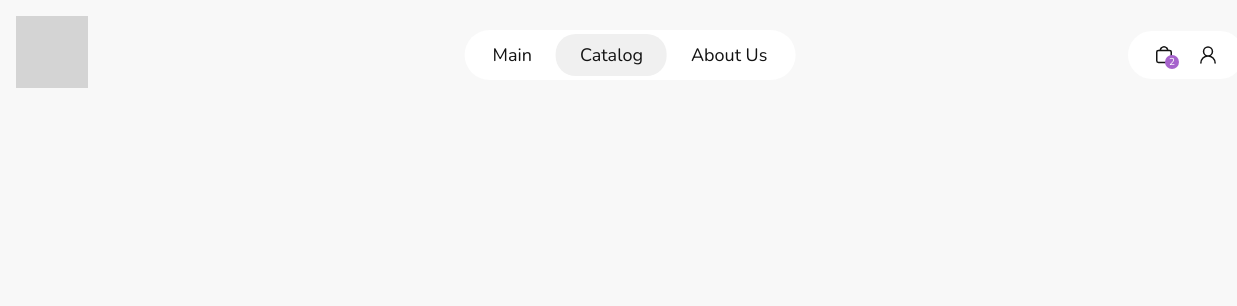
Test: Header component › displays fallback name when user has only email
Click the button named "profile menu".
click(1208, 55)  # box x1=1196 y1=43 x2=1220 y2=67
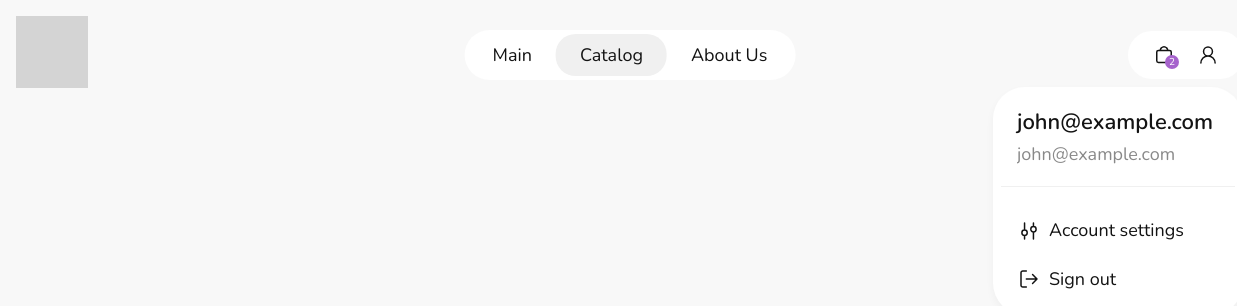
Expected: the text "john@example.com" is shown 2 times, x1=1017 y1=111 x2=1219 y2=135; x1=1017 y1=142 x2=1175 y2=166
